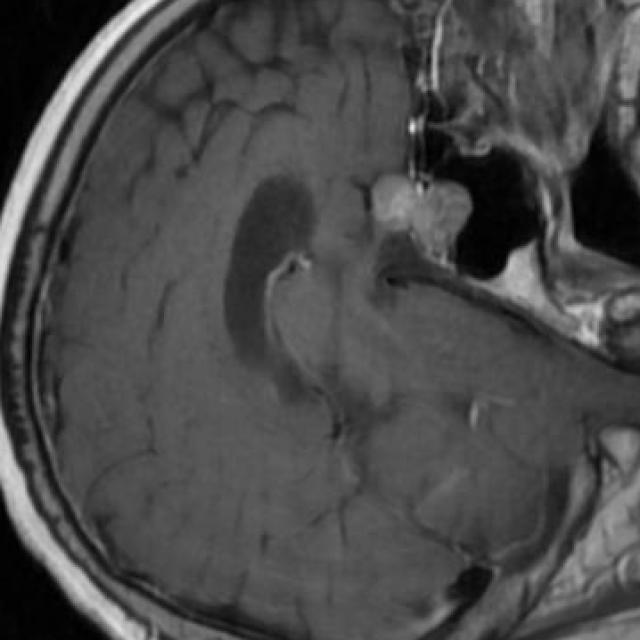pituitary: (371, 175, 474, 260)
